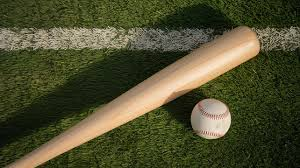baseball bat: (1, 24, 262, 168)
